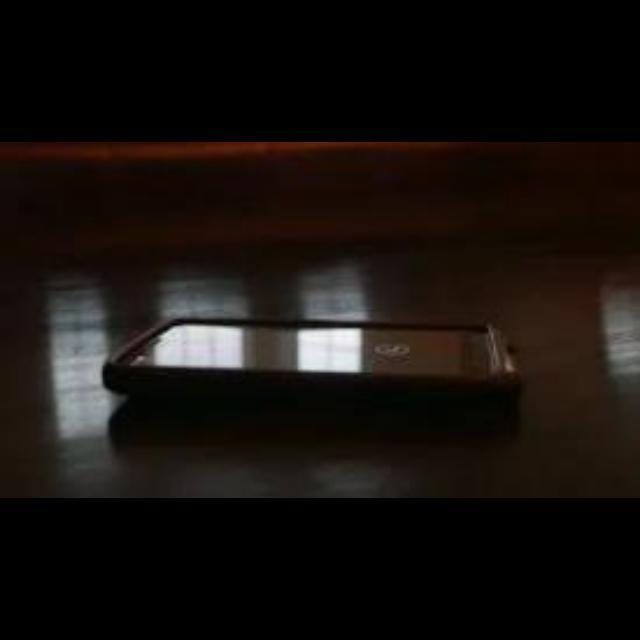Phone: (112, 291, 548, 407)
